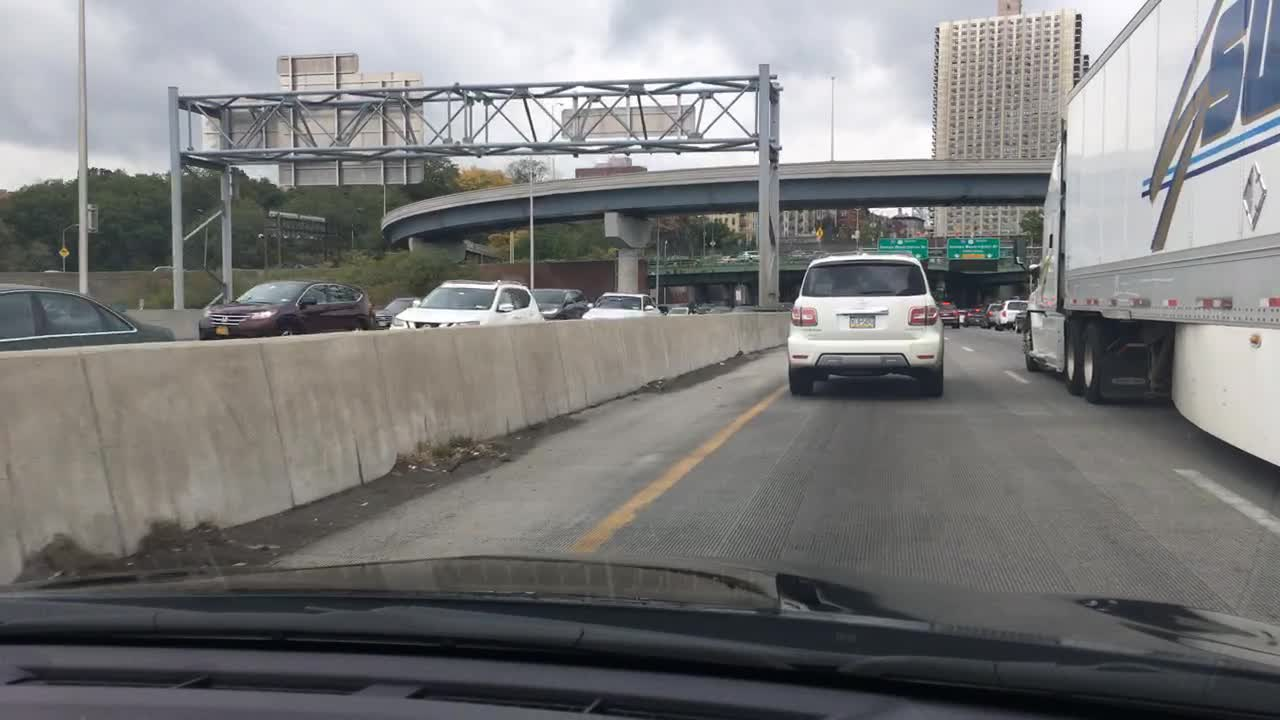car: (786, 252, 946, 399), (0, 280, 174, 347), (196, 276, 375, 338), (390, 279, 545, 328), (580, 290, 670, 318), (523, 286, 588, 320), (374, 295, 420, 329), (995, 297, 1028, 330), (936, 301, 962, 326), (733, 247, 762, 267), (698, 253, 731, 269), (963, 309, 989, 329), (699, 298, 730, 313), (986, 302, 1006, 324), (149, 262, 187, 273), (666, 304, 697, 317), (957, 306, 967, 323)
traffic sign: (194, 99, 426, 149), (560, 108, 697, 137), (278, 160, 427, 186), (277, 73, 432, 93), (260, 209, 331, 238), (272, 56, 357, 72), (877, 236, 929, 262), (946, 236, 1004, 259), (813, 223, 825, 240), (60, 247, 71, 258)
truck: (1012, 2, 1277, 466)
